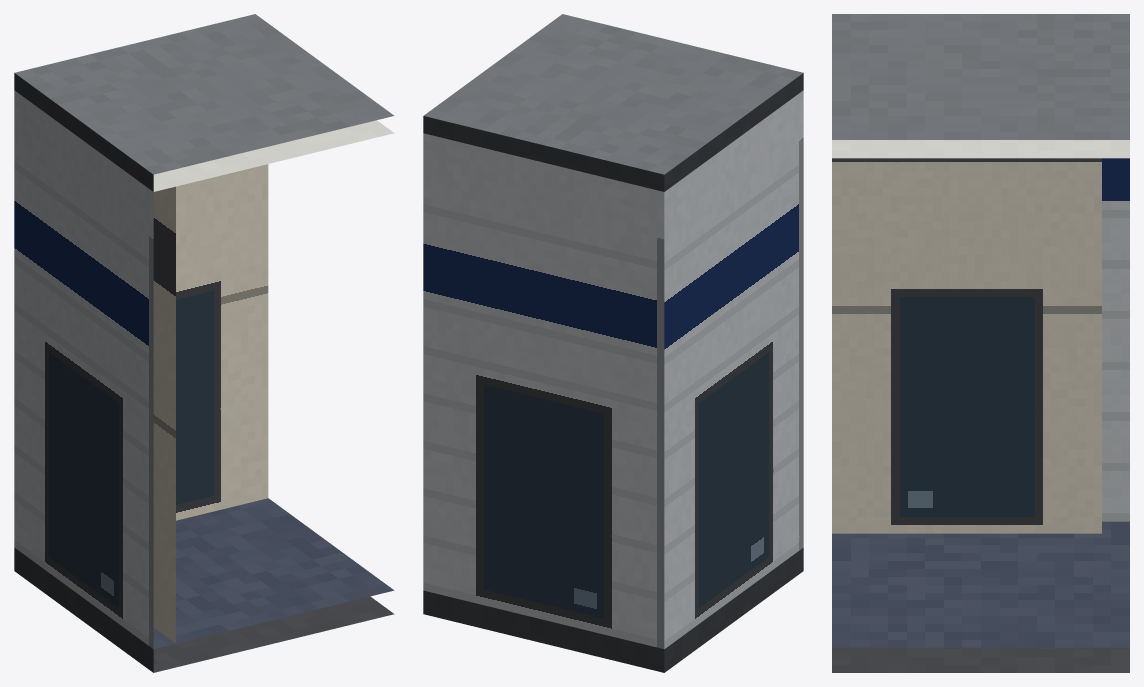
File: airport_jet_bridge_corner_c1.obj
The picture shows the model from 3 angles, left to right: view 1: azimuth 30°, elevation 25°; view 2: azimuth 150°, elevation 25°; view 3: azimuth 270°, elevation 25°; orthographic projection. The views are drawn at different scales.
Visible parts, largest first — view 1: airport_jet_bridge_corner_c1; view 2: airport_jet_bridge_corner_c1; view 3: airport_jet_bridge_corner_c1.
Boxes of the visible parts, x1,y1,x2,y2 form: airport_jet_bridge_corner_c1: [14, 14, 394, 672]; airport_jet_bridge_corner_c1: [423, 14, 803, 672]; airport_jet_bridge_corner_c1: [832, 14, 1129, 672].
Bounding box in the file's own units: 1 × 1.98 × 1.
